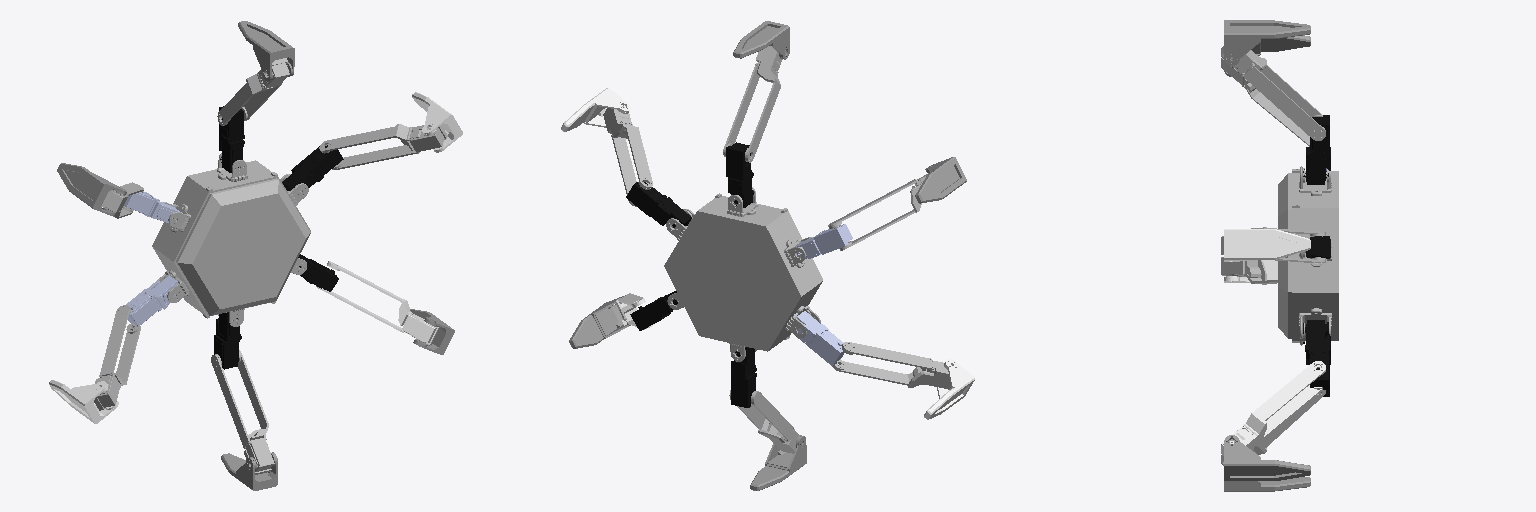
--- Facts derived from the render (not from the file) ---
Views: 3 orthographic renders of the robot side by side, from view 1: azimuth 30°, elevation 25°; view 2: azimuth 150°, elevation 25°; view 3: azimuth 270°, elevation 25°.
Model hexapod_description with 19 links and 18 joints (18 revolute), rooted at base_link, posed all joints at 0.
Links seen in each view (by area): view 1: base_link, 5B_link, 1B_link, 2B_link, 4B_link, 3C_link, 4C_link, 6B_link, 2C_link, 5A_link, 2A_link, 1C_link (+7 smaller); view 2: base_link, 2B_link, 4B_link, 5B_link, 1B_link, 1C_link, 6C_link, 3C_link, 4C_link, 5A_link, 4A_link, 5C_link (+7 smaller); view 3: base_link, 6B_link, 4B_link, 5C_link, 6C_link, 4C_link, 6A_link, 4A_link, 3B_link, 1C_link, 2B_link, 1B_link (+1 smaller).
Link boxes in pixels (box(x1,y1,x2,y2)): base_link: box(152, 153, 310, 326); 5B_link: box(319, 124, 447, 169); 1B_link: box(211, 350, 274, 474); 2B_link: box(94, 305, 140, 410); 4B_link: box(217, 58, 289, 125); 3C_link: box(57, 163, 126, 216); 4C_link: box(238, 21, 294, 81); 6B_link: box(316, 261, 439, 344); 2C_link: box(49, 380, 118, 423); 5A_link: box(282, 145, 343, 190); 2A_link: box(126, 275, 178, 326); 1C_link: box(221, 452, 277, 490); base_link: box(664, 187, 822, 361); 2B_link: box(832, 342, 950, 389); 4B_link: box(723, 46, 785, 162); 5B_link: box(603, 106, 652, 206); 1B_link: box(729, 390, 799, 453); 1C_link: box(750, 435, 806, 490); 6C_link: box(569, 295, 630, 348); 3C_link: box(915, 157, 966, 203); 4C_link: box(733, 21, 789, 59); 5A_link: box(626, 182, 691, 227); 4A_link: box(726, 142, 753, 207); 5C_link: box(561, 88, 630, 131); base_link: box(1278, 166, 1338, 345); 6B_link: box(1221, 361, 1325, 455); 4B_link: box(1221, 46, 1325, 140); 5C_link: box(1224, 229, 1310, 261); 6C_link: box(1224, 435, 1310, 480); 4C_link: box(1224, 20, 1310, 65); 6A_link: box(1303, 320, 1330, 389); 4A_link: box(1303, 115, 1330, 184); 3B_link: box(1221, 58, 1309, 146); 1C_link: box(1224, 477, 1310, 491); 2B_link: box(1221, 257, 1277, 284); 1B_link: box(1221, 390, 1325, 465).
Bounding box of the posed robot: 0.6612 × 0.1652 × 0.725 m (x, y, z).
19 mesh visuals loaded from 19 distinct referenced files (19 binary STL).

URDF robot description (hexapod_description):
<?xml version="1.0" encoding="utf-8"?>
<!-- This URDF was automatically created by SolidWorks to URDF Exporter! Originally created by Stephen Brawner ([email redacted]) 
     Commit Version: 1.6.0-4-g7f85cfe  Build Version: 1.6.7995.38578
     For more information, please see http://wiki.ros.org/sw_urdf_exporter -->
<robot
  name="hexapod_description">
  <link
    name="base_link">
    <inertial>
      <origin
        xyz="-0.257345682060978 -1.02866618257168 -0.143609577240063"
        rpy="0 0 0" />
      <mass
        value="0.406550708950941" />
      <inertia
        ixx="0.00140186277369694"
        ixy="-3.22683837094564E-09"
        ixz="-9.08398049430112E-08"
        iyy="0.00260764605126391"
        iyz="4.90426096668826E-09"
        izz="0.00139672166947924" />
    </inertial>
    <visual>
      <origin
        xyz="0 0 0"
        rpy="0 0 0" />
      <geometry>
        <mesh
          filename="package://hexapod_description/meshes/base_link.STL" />
      </geometry>
      <material
        name="">
        <color
          rgba="0.749019607843137 0.749019607843137 0.749019607843137 1" />
      </material>
    </visual>
    <collision>
      <origin
        xyz="0 0 0"
        rpy="0 0 0" />
      <geometry>
        <mesh
          filename="package://hexapod_description/meshes/base_link.STL" />
      </geometry>
    </collision>
  </link>
  <link
    name="1A_link">
    <inertial>
      <origin
        xyz="0.0314868811694564 0.00197124396764625 0.00105365856917117"
        rpy="0 0 0" />
      <mass
        value="0.0263699504711605" />
      <inertia
        ixx="3.33723947173692E-06"
        ixy="-2.50666346745536E-07"
        ixz="7.03833403544651E-07"
        iyy="9.42120362251014E-06"
        iyz="2.05638033147562E-08"
        izz="9.2518798603893E-06" />
    </inertial>
    <visual>
      <origin
        xyz="0 0 0"
        rpy="0 0 0" />
      <geometry>
        <mesh
          filename="package://hexapod_description/meshes/1A_link.STL" />
      </geometry>
      <material
        name="">
        <color
          rgba="0.109803921568627 0.109803921568627 0.109803921568627 1" />
      </material>
    </visual>
    <collision>
      <origin
        xyz="0 0 0"
        rpy="0 0 0" />
      <geometry>
        <mesh
          filename="package://hexapod_description/meshes/1A_link.STL" />
      </geometry>
    </collision>
  </link>
  <joint
    name="1A_joint"
    type="revolute">
    <origin
      xyz="-0.260544565013545 -1.01206116241563 -0.281391297394327"
      rpy="-1.5707963267949 1.49476626971651 -3.14159265358979" />
    <parent
      link="base_link" />
    <child
      link="1A_link" />
    <axis
      xyz="0 0 0.999999999991391" />
    <limit
      lower="0"
      upper="0"
      effort="0"
      velocity="0" />
  </joint>
  <link
    name="1B_link">
    <inertial>
      <origin
        xyz="-0.101463445454963 -0.0090690797970408 0.0061519062192644"
        rpy="0 0 0" />
      <mass
        value="0.0393326462006014" />
      <inertia
        ixx="6.09843540512717E-06"
        ixy="-9.65462501029542E-06"
        ixz="-7.15455692524206E-06"
        iyy="7.74006313021129E-05"
        iyz="-1.55304508202669E-06"
        izz="7.78914047960756E-05" />
    </inertial>
    <visual>
      <origin
        xyz="0 0 0"
        rpy="0 0 0" />
      <geometry>
        <mesh
          filename="package://hexapod_description/meshes/1B_link.STL" />
      </geometry>
      <material
        name="">
        <color
          rgba="0.749019607843137 0.749019607843137 0.749019607843137 1" />
      </material>
    </visual>
    <collision>
      <origin
        xyz="0 0 0"
        rpy="0 0 0" />
      <geometry>
        <mesh
          filename="package://hexapod_description/meshes/1B_link.STL" />
      </geometry>
    </collision>
  </link>
  <joint
    name="1B_joint"
    type="revolute">
    <origin
      xyz="0.0636203974674808 -0.000577139628543943 0.00570103050496762"
      rpy="1.57080045971871 0.842287346673303 3.13252412666513" />
    <parent
      link="1A_link" />
    <child
      link="1B_link" />
    <axis
      xyz="-0.0449475329048584 -0.0503765997912149 -0.997718355789469" />
    <limit
      lower="0"
      upper="0"
      effort="0"
      velocity="0" />
  </joint>
  <link
    name="1C_link">
    <inertial>
      <origin
        xyz="-0.033090446505583 0.03364009791323 -0.0302094077903412"
        rpy="0 0 0" />
      <mass
        value="0.0544820458081965" />
      <inertia
        ixx="1.27315912586345E-05"
        ixy="4.94613634452061E-07"
        ixz="2.74617390493301E-06"
        iyy="5.93496233785305E-05"
        iyz="-3.40468686599491E-07"
        izz="6.5576823590962E-05" />
    </inertial>
    <visual>
      <origin
        xyz="0 0 0"
        rpy="0 0 0" />
      <geometry>
        <mesh
          filename="package://hexapod_description/meshes/1C_link.STL" />
      </geometry>
      <material
        name="">
        <color
          rgba="0.647058823529412 0.647058823529412 0.647058823529412 1" />
      </material>
    </visual>
    <collision>
      <origin
        xyz="0 0 0"
        rpy="0 0 0" />
      <geometry>
        <mesh
          filename="package://hexapod_description/meshes/1C_link.STL" />
      </geometry>
    </collision>
  </link>
  <joint
    name="1C_joint"
    type="revolute">
    <origin
      xyz="-0.164084019172298 -0.00845892892413586 -0.0272391911814598"
      rpy="1.57079626680283 0 2.26115671183903" />
    <parent
      link="1B_link" />
    <child
      link="1C_link" />
    <axis
      xyz="-0.0102179351134587 -0.99771835169199 -0.0667359310943994" />
    <limit
      lower="0"
      upper="0"
      effort="0"
      velocity="0" />
  </joint>
  <link
    name="2A_link">
    <inertial>
      <origin
        xyz="0.0168020043618356 0.00133351786381353 -0.0200462294848021"
        rpy="0 0 0" />
      <mass
        value="0.0263699508381395" />
      <inertia
        ixx="3.33712661123171E-06"
        ixy="-2.49359149147869E-07"
        ixz="7.03814929944506E-07"
        iyy="9.42131107021187E-06"
        iyz="2.04114728163619E-08"
        izz="9.25188533682116E-06" />
    </inertial>
    <visual>
      <origin
        xyz="0 0 0"
        rpy="0 0 0" />
      <geometry>
        <mesh
          filename="package://hexapod_description/meshes/2A_link.STL" />
      </geometry>
      <material
        name="">
        <color
          rgba="0.792156862745098 0.819607843137255 0.933333333333333 1" />
      </material>
    </visual>
    <collision>
      <origin
        xyz="0 0 0"
        rpy="0 0 0" />
      <geometry>
        <mesh
          filename="package://hexapod_description/meshes/2A_link.STL" />
      </geometry>
    </collision>
  </link>
  <joint
    name="2A_joint"
    type="revolute">
    <origin
      xyz="-0.378260308632601 -1.03316169228736 -0.209825331186314"
      rpy="-1.5707963267949 0.447803456724678 -3.14159265358979" />
    <parent
      link="base_link" />
    <child
      link="2A_link" />
    <axis
      xyz="0 0 0.999999999991391" />
    <limit
      lower="0"
      upper="0"
      effort="0"
      velocity="0" />
  </joint>
  <link
    name="2B_link">
    <inertial>
      <origin
        xyz="0.0899345341518747 0.0180374698083442 0.00536085392164038"
        rpy="0 0 0" />
      <mass
        value="0.0393326465544563" />
      <inertia
        ixx="1.35267834855975E-05"
        ixy="-2.3823323568845E-05"
        ixz="6.65849446275311E-06"
        iyy="6.99745746109368E-05"
        iyz="3.06927306122557E-06"
        izz="7.78891134738289E-05" />
    </inertial>
    <visual>
      <origin
        xyz="0 0 0"
        rpy="0 0 0" />
      <geometry>
        <mesh
          filename="package://hexapod_description/meshes/2B_link.STL" />
      </geometry>
      <material
        name="">
        <color
          rgba="0.749019607843137 0.749019607843137 0.749019607843137 1" />
      </material>
    </visual>
    <collision>
      <origin
        xyz="0 0 0"
        rpy="0 0 0" />
      <geometry>
        <mesh
          filename="package://hexapod_description/meshes/2B_link.STL" />
      </geometry>
    </collision>
  </link>
  <joint
    name="2B_joint"
    type="revolute">
    <origin
      xyz="0.0635994650152483 -0.000578393068543129 -0.0153999472755177"
      rpy="-1.57080465259821 -1.06059839350069 -0.00908580645889822" />
    <parent
      link="2A_link" />
    <child
      link="2B_link" />
    <axis
      xyz="0.0328663838674289 0.0587298554671745 -0.997732732192486" />
    <limit
      lower="0"
      upper="0"
      effort="0"
      velocity="0" />
  </joint>
  <link
    name="2C_link">
    <inertial>
      <origin
        xyz="0.0241370376946909 0.00414402721301145 0.0762934620808166"
        rpy="0 0 0" />
      <mass
        value="0.0544820458081965" />
      <inertia
        ixx="6.09511552478516E-05"
        ixy="-4.51836357274602E-07"
        ixz="1.51853518606208E-05"
        iyy="5.93495258730059E-05"
        iyz="3.93408956305944E-07"
        izz="1.73573571072691E-05" />
    </inertial>
    <visual>
      <origin
        xyz="0 0 0"
        rpy="0 0 0" />
      <geometry>
        <mesh
          filename="package://hexapod_description/meshes/2C_link.STL" />
      </geometry>
      <material
        name="">
        <color
          rgba="0.956862745098039 0.956862745098039 0.956862745098039 1" />
      </material>
    </visual>
    <collision>
      <origin
        xyz="0 0 0"
        rpy="0 0 0" />
      <geometry>
        <mesh
          filename="package://hexapod_description/meshes/2C_link.STL" />
      </geometry>
    </collision>
  </link>
  <joint
    name="2C_joint"
    type="revolute">
    <origin
      xyz="0.171099091710239 0 0.00973951247489032"
      rpy="-1.57079893258156 0 0.656200837708118" />
    <parent
      link="2B_link" />
    <child
      link="2C_link" />
    <axis
      xyz="0.0618783699585716 0.997732286459228 0.0264830490712859" />
    <limit
      lower="0"
      upper="0"
      effort="0"
      velocity="0" />
  </joint>
  <link
    name="3A_link">
    <inertial>
      <origin
        xyz="0.0313956505028913 0.00342310426508807 -0.020046116943643"
        rpy="0 0 0" />
      <mass
        value="0.0263699508285937" />
      <inertia
        ixx="3.36126072861933E-06"
        ixy="-4.5657600556031E-07"
        ixz="7.02687127339224E-07"
        iyy="9.39717243552677E-06"
        iyz="4.44504776418185E-08"
        izz="9.25188985785356E-06" />
    </inertial>
    <visual>
      <origin
        xyz="0 0 0"
        rpy="0 0 0" />
      <geometry>
        <mesh
          filename="package://hexapod_description/meshes/3A_link.STL" />
      </geometry>
      <material
        name="">
        <color
          rgba="0.792156862745098 0.819607843137255 0.933333333333333 1" />
      </material>
    </visual>
    <collision>
      <origin
        xyz="0 0 0"
        rpy="0 0 0" />
      <geometry>
        <mesh
          filename="package://hexapod_description/meshes/3A_link.STL" />
      </geometry>
    </collision>
  </link>
  <joint
    name="3A_joint"
    type="revolute">
    <origin
      xyz="-0.374914944478911 -1.03316214363253 -0.071745054027157"
      rpy="-1.5707963267949 -0.633602285574073 3.14159265358979" />
    <parent
      link="base_link" />
    <child
      link="3A_link" />
    <axis
      xyz="0 0 0.999999999991391" />
    <limit
      lower="0"
      upper="0"
      effort="0"
      velocity="0" />
  </joint>
  <link
    name="3B_link">
    <inertial>
      <origin
        xyz="0.0936141216212607 0.0396505584641602 0.0112449653170485"
        rpy="0 0 0" />
      <mass
        value="0.0393326465589695" />
      <inertia
        ixx="1.83870339953075E-05"
        ixy="-2.89463381161394E-05"
        ixz="4.60366342605862E-06"
        iyy="6.47562592057289E-05"
        iyz="2.87201683410423E-06"
        izz="7.82471783699335E-05" />
    </inertial>
    <visual>
      <origin
        xyz="0 0 0"
        rpy="0 0 0" />
      <geometry>
        <mesh
          filename="package://hexapod_description/meshes/3B_link.STL" />
      </geometry>
      <material
        name="">
        <color
          rgba="0.749019607843137 0.749019607843137 0.749019607843137 1" />
      </material>
    </visual>
    <collision>
      <origin
        xyz="0 0 0"
        rpy="0 0 0" />
      <geometry>
        <mesh
          filename="package://hexapod_description/meshes/3B_link.STL" />
      </geometry>
    </collision>
  </link>
  <joint
    name="3B_joint"
    type="revolute">
    <origin
      xyz="0.0635994253292133 -0.000590202035316956 -0.0153997469552429"
      rpy="-1.57079925003102 -1.15568185911555 -0.00927676327375631" />
    <parent
      link="3A_link" />
    <child
      link="3B_link" />
    <axis
      xyz="0.0409633277318722 0.0929442335923958 -0.994828314445791" />
    <limit
      lower="0"
      upper="0"
      effort="0"
      velocity="0" />
  </joint>
  <link
    name="3C_link">
    <inertial>
      <origin
        xyz="-0.0915989307350369 0.0140844023300327 -0.052873096349069"
        rpy="0 0 0" />
      <mass
        value="0.0544820458081964" />
      <inertia
        ixx="1.5852788108744E-05"
        ixy="5.18829043575577E-07"
        ixz="1.27454234543599E-05"
        iyy="5.93742513397706E-05"
        iyz="-6.79279764488686E-07"
        izz="6.24309987796119E-05" />
    </inertial>
    <visual>
      <origin
        xyz="0 0 0"
        rpy="0 0 0" />
      <geometry>
        <mesh
          filename="package://hexapod_description/meshes/3C_link.STL" />
      </geometry>
      <material
        name="">
        <color
          rgba="0.647058823529412 0.647058823529412 0.647058823529412 1" />
      </material>
    </visual>
    <collision>
      <origin
        xyz="0 0 0"
        rpy="0 0 0" />
      <geometry>
        <mesh
          filename="package://hexapod_description/meshes/3C_link.STL" />
      </geometry>
    </collision>
  </link>
  <joint
    name="3C_joint"
    type="revolute">
    <origin
      xyz="0.171099056984165 0 0"
      rpy="1.57085675367315 2.20692556657909E-05 -0.765289631009453" />
    <parent
      link="3B_link" />
    <child
      link="3C_link" />
    <axis
      xyz="-0.0348227777562482 -0.994834846523427 -0.0953467476742054" />
    <limit
      lower="0"
      upper="0"
      effort="0"
      velocity="0" />
  </joint>
  <link
    name="4A_link">
    <inertial>
      <origin
        xyz="0.0313256565651036 -0.00419605898309888 0.00105386223872128"
        rpy="0 0 0" />
      <mass
        value="0.0263699504710962" />
      <inertia
        ixx="3.38888205650108E-06"
        ixy="6.11893325820668E-07"
        ixz="6.99619233912719E-07"
        iyy="9.36955199918565E-06"
        iyz="-7.9266475234568E-08"
        izz="9.25188889893769E-06" />
    </inertial>
    <visual>
      <origin
        xyz="0 0 0"
        rpy="0 0 0" />
      <geometry>
        <mesh
          filename="package://hexapod_description/meshes/4A_link.STL" />
      </geometry>
      <material
        name="">
        <color
          rgba="0.109803921568627 0.109803921568627 0.109803921568627 1" />
      </material>
    </visual>
    <collision>
      <origin
        xyz="0 0 0"
        rpy="0 0 0" />
      <geometry>
        <mesh
          filename="package://hexapod_description/meshes/4A_link.STL" />
      </geometry>
    </collision>
  </link>
  <joint
    name="4A_joint"
    type="revolute">
    <origin
      xyz="-0.255974054373996 -1.01206206817619 -0.00588646684487949"
      rpy="-1.5707963267949 -1.50475510925559 3.14159265358979" />
    <parent
      link="base_link" />
    <child
      link="4A_link" />
    <axis
      xyz="0 0 0.999999999991391" />
    <limit
      lower="0"
      upper="0"
      effort="0"
      velocity="0" />
  </joint>
  <link
    name="4B_link">
    <inertial>
      <origin
        xyz="0.0911483277211079 0.0444937413474558 -0.0151270409096903"
        rpy="0 0 0" />
      <mass
        value="0.0393326462005431" />
      <inertia
        ixx="2.28259577744878E-05"
        ixy="-2.95747592767861E-05"
        ixz="1.28818549442046E-05"
        iyy="6.31680114368247E-05"
        iyz="7.4723054022072E-06"
        izz="7.53965022919932E-05" />
    </inertial>
    <visual>
      <origin
        xyz="0 0 0"
        rpy="0 0 0" />
      <geometry>
        <mesh
          filename="package://hexapod_description/meshes/4B_link.STL" />
      </geometry>
      <material
        name="">
        <color
          rgba="0.749019607843137 0.749019607843137 0.749019607843137 1" />
      </material>
    </visual>
    <collision>
      <origin
        xyz="0 0 0"
        rpy="0 0 0" />
      <geometry>
        <mesh
          filename="package://hexapod_description/meshes/4B_link.STL" />
      </geometry>
    </collision>
  </link>
  <joint
    name="4B_joint"
    type="revolute">
    <origin
      xyz="0.0635992616466633 -0.000576968315201321 0.00570022034299766"
      rpy="-1.57078983356474 -1.21135560970982 -0.00907755888534315" />
    <parent
      link="4A_link" />
    <child
      link="4B_link" />
    <axis
      xyz="-0.026183695853635 -0.0696804058154778 -0.997225679130273" />
    <limit
      lower="0"
      upper="0"
      effort="0"
      velocity="0" />
  </joint>
  <link
    name="4C_link">
    <inertial>
      <origin
        xyz="-0.112497093034556 -0.0256531693219085 -0.0189709733922588"
        rpy="0 0 0" />
      <mass
        value="0.0544820458081964" />
      <inertia
        ixx="3.07991099331793E-05"
        ixy="2.17191667090929E-07"
        ixz="2.52064187142146E-05"
        iyy="5.93932669804949E-05"
        iyz="5.65374330319162E-07"
        izz="4.74656613144524E-05" />
    </inertial>
    <visual>
      <origin
        xyz="0 0 0"
        rpy="0 0 0" />
      <geometry>
        <mesh
          filename="package://hexapod_description/meshes/4C_link.STL" />
      </geometry>
      <material
        name="">
        <color
          rgba="0.647058823529412 0.647058823529412 0.647058823529412 1" />
      </material>
    </visual>
    <collision>
      <origin
        xyz="0 0 0"
        rpy="0 0 0" />
      <geometry>
        <mesh
          filename="package://hexapod_description/meshes/4C_link.STL" />
      </geometry>
    </collision>
  </link>
  <joint
    name="4C_joint"
    type="revolute">
    <origin
      xyz="0.171099059852282 0 0"
      rpy="1.57079637586786 0 -1.08585857681701" />
    <parent
      link="4B_link" />
    <child
      link="4C_link" />
    <axis
      xyz="0.0494409591559326 -0.997225674243885 0.055646618824235" />
    <limit
      lower="0"
      upper="0"
      effort="0"
      velocity="0" />
  </joint>
  <link
    name="5A_link">
    <inertial>
      <origin
        xyz="0.0313999551729934 0.00338725187449292 0.00105374726931462"
        rpy="0 0 0" />
      <mass
        value="0.0263699508381523" />
      <inertia
        ixx="3.36009883122604E-06"
        ixy="-4.48785922798922E-07"
        ixz="7.02770381902636E-07"
        iyy="9.39834074780059E-06"
        iyz="4.35462741239013E-08"
        izz="9.25188343923588E-06" />
    </inertial>
    <visual>
      <origin
        xyz="0 0 0"
        rpy="0 0 0" />
      <geometry>
        <mesh
          filename="package://hexapod_description/meshes/5A_link.STL" />
      </geometry>
      <material
        name="">
        <color
          rgba="0.109803921568627 0.109803921568627 0.109803921568627 1" />
      </material>
    </visual>
    <collision>
      <origin
        xyz="0 0 0"
        rpy="0 0 0" />
      <geometry>
        <mesh
          filename="package://hexapod_description/meshes/5A_link.STL" />
      </geometry>
    </collision>
  </link>
  <joint
    name="5A_joint"
    type="revolute">
    <origin
      xyz="-0.136390786035478 -1.01206153239268 -0.0778384850774082"
      rpy="1.5707963267949 -0.414816831721765 0" />
    <parent
      link="base_link" />
    <child
      link="5A_link" />
    <axis
      xyz="0 0 0.999999999991391" />
    <limit
      lower="0"
      upper="0"
      effort="0"
      velocity="0" />
  </joint>
  <link
    name="5B_link">
    <inertial>
      <origin
        xyz="0.0892357149321069 0.0487373829812296 0.0110366936295503"
        rpy="0 0 0" />
      <mass
        value="0.0393326465544562" />
      <inertia
        ixx="2.45468725580232E-05"
        ixy="-3.29379197620219E-05"
        ixz="4.37105611009743E-06"
        iyy="5.86103961694541E-05"
        iyz="3.35823808551185E-06"
        izz="7.82332028428856E-05" />
    </inertial>
    <visual>
      <origin
        xyz="0 0 0"
        rpy="0 0 0" />
      <geometry>
        <mesh
          filename="package://hexapod_description/meshes/5B_link.STL" />
      </geometry>
      <material
        name="">
        <color
          rgba="0.749019607843137 0.749019607843137 0.749019607843137 1" />
      </material>
    </visual>
    <collision>
      <origin
        xyz="0 0 0"
        rpy="0 0 0" />
      <geometry>
        <mesh
          filename="package://hexapod_description/meshes/5B_link.STL" />
      </geometry>
    </collision>
  </link>
  <joint
    name="5B_joint"
    type="revolute">
    <origin
      xyz="0.0635993103802858 -0.000573903264097668 0.00569993879362163"
      rpy="-1.57078333798218 -1.25480236320661 -0.00903547312752022" />
    <parent
      link="5A_link" />
    <child
      link="5B_link" />
    <axis
      xyz="0.0311072596905014 0.0951442959394444 -0.99497733710107" />
    <limit
      lower="0"
      upper="0"
      effort="0"
      velocity="0" />
  </joint>
  <link
    name="5C_link">
    <inertial>
      <origin
        xyz="-0.051342500976431 0.0409970965450317 -0.110591060429534"
        rpy="0 0 0" />
      <mass
        value="0.0544820458081966" />
      <inertia
        ixx="1.774458092344E-05"
        ixy="7.92768461829593E-07"
        ixz="-1.57162718357249E-05"
        iyy="5.93728609519425E-05"
        iyz="-2.87339346901139E-07"
        izz="6.05405963527444E-05" />
    </inertial>
    <visual>
      <origin
        xyz="0 0 0"
        rpy="0 0 0" />
      <geometry>
        <mesh
          filename="package://hexapod_description/meshes/5C_link.STL" />
      </geometry>
      <material
        name="">
        <color
          rgba="0.956862745098039 0.956862745098039 0.956862745098039 1" />
      </material>
    </visual>
    <collision>
      <origin
        xyz="0 0 0"
        rpy="0 0 0" />
      <geometry>
        <mesh
          filename="package://hexapod_description/meshes/5C_link.STL" />
      </geometry>
    </collision>
  </link>
  <joint
    name="5C_joint"
    type="revolute">
    <origin
      xyz="0.171078321783105 0 -0.0272330994907475"
      rpy="1.57083810968274 0 -0.0990644706572842" />
    <parent
      link="5B_link" />
    <child
      link="5C_link" />
    <axis
      xyz="0.0215355717970855 -0.994981619052824 -0.097712828709403" />
    <limit
      lower="0"
      upper="0"
      effort="0"
      velocity="0" />
  </joint>
  <link
    name="6A_link">
    <inertial>
      <origin
        xyz="0.031398810272385 0.00340248507653151 0.00105364226403903"
        rpy="0 0 0" />
      <mass
        value="0.0263699508285987" />
      <inertia
        ixx="3.36048068345292E-06"
        ixy="-4.51316600727395E-07"
        ixz="7.02771232582322E-07"
        iyy="9.39796341646618E-06"
        iyz="4.38420307052384E-08"
        izz="9.25187892208161E-06" />
    </inertial>
    <visual>
      <origin
        xyz="0 0 0"
        rpy="0 0 0" />
      <geometry>
        <mesh
          filename="package://hexapod_description/meshes/6A_link.STL" />
      </geometry>
      <material
        name="">
        <color
          rgba="0.109803921568627 0.109803921568627 0.109803921568627 1" />
      </material>
    </visual>
    <collision>
      <origin
        xyz="0 0 0"
        rpy="0 0 0" />
      <geometry>
        <mesh
          filename="package://hexapod_description/meshes/6A_link.STL" />
      </geometry>
    </collision>
  </link>
  <joint
    name="6A_joint"
    type="revolute">
    <origin
      xyz="-0.13991270731822 -1.01206108271275 -0.215549909652052"
      rpy="1.5707963267949 0.632777255807867 0" />
    <parent
      link="base_link" />
    <child
      link="6A_link" />
    <axis
      xyz="0 0 0.999999999991391" />
    <limit
      lower="0"
      upper="0"
      effort="0"
      velocity="0" />
  </joint>
  <link
    name="6B_link">
    <inertial>
      <origin
        xyz="-0.0832084945838557 0.00530775187679311 0.0584009008053727"
        rpy="0 0 0" />
      <mass
        value="0.039332646558969" />
      <inertia
        ixx="2.57474920098558E-05"
        ixy="4.92546293925028E-06"
        ixz="3.35344572291383E-05"
        iyy="7.82374441869762E-05"
        iyz="-2.41618514634246E-06"
        izz="5.74055353741377E-05" />
    </inertial>
    <visual>
      <origin
        xyz="0 0 0"
        rpy="0 0 0" />
      <geometry>
        <mesh
          filename="package://hexapod_description/meshes/6B_link.STL" />
      </geometry>
      <material
        name="">
        <color
          rgba="0.956862745098039 0.956862745098039 0.956862745098039 1" />
      </material>
    </visual>
    <collision>
      <origin
        xyz="0 0 0"
        rpy="0 0 0" />
      <geometry>
        <mesh
          filename="package://hexapod_description/meshes/6B_link.STL" />
      </geometry>
    </collision>
  </link>
  <joint
    name="6B_joint"
    type="revolute">
    <origin
      xyz="0.0637692737648475 0.0158329936408527 0.00570099857651085"
      rpy="0 0.143099612060705 3.13252099109131" />
    <parent
      link="6A_link" />
    <child
      link="6B_link" />
    <axis
      xyz="-0.0995153621342332 0.994932686708951 -0.0143402098102098" />
    <limit
      lower="0"
      upper="0"
      effort="0"
      velocity="0" />
  </joint>
  <link
    name="6C_link">
    <inertial>
      <origin
        xyz="-0.146473058334638 0.0411093423665114 -0.110305872217635"
        rpy="0 0 0" />
      <mass
        value="0.0544820458081965" />
      <inertia
        ixx="2.16939330217661E-05"
        ixy="3.89846069471669E-07"
        ixz="2.00103111035215E-05"
        iyy="5.9373323293987E-05"
        iyz="-7.52051060900978E-07"
        izz="5.6590781912373E-05" />
    </inertial>
    <visual>
      <origin
        xyz="0 0 0"
        rpy="0 0 0" />
      <geometry>
        <mesh
          filename="package://hexapod_description/meshes/6C_link.STL" />
      </geometry>
      <material
        name="">
        <color
          rgba="0.647058823529412 0.647058823529412 0.647058823529412 1" />
      </material>
    </visual>
    <collision>
      <origin
        xyz="0 0 0"
        rpy="0 0 0" />
      <geometry>
        <mesh
          filename="package://hexapod_description/meshes/6C_link.STL" />
      </geometry>
    </collision>
  </link>
  <joint
    name="6C_joint"
    type="revolute">
    <origin
      xyz="-0.00409101222826194 0.0436501939489914 0.16090715153179"
      rpy="3.14158945955694 -1.1872473110289 0" />
    <parent
      link="6B_link" />
    <child
      link="6C_link" />
    <axis
      xyz="-0.0505372205435134 -0.99493270384841 -0.0869189516309744" />
    <limit
      lower="0"
      upper="0"
      effort="0"
      velocity="0" />
  </joint>
</robot>
